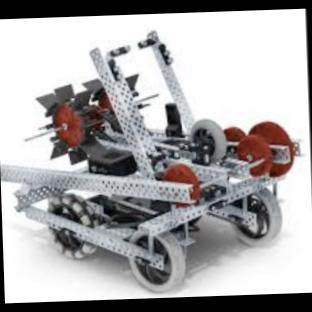Robot: (0, 31, 302, 292)
